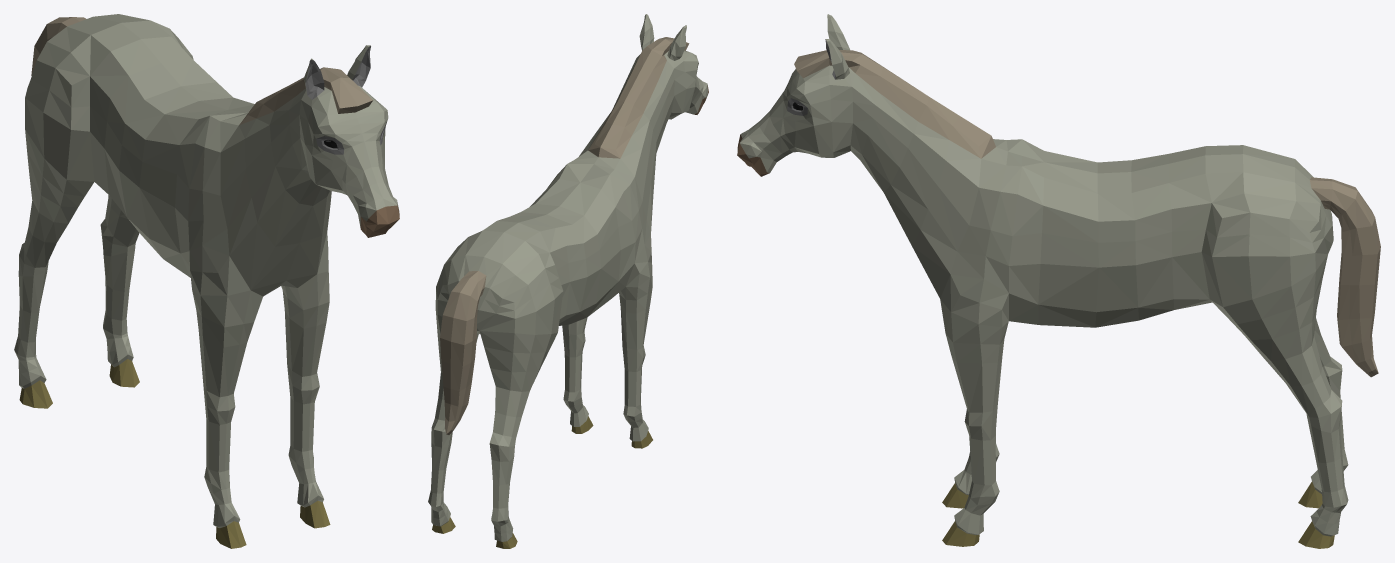
File: horse-white.glb
3 renders of one model, left to right at view 1: azimuth 30°, elevation 25°; view 2: azimuth 150°, elevation 25°; view 3: azimuth 270°, elevation 25°, orthographic. The views are drawn at different scales.
Visible parts, largest first — view 1: horse-white; view 2: horse-white; view 3: horse-white.
Part boxes in pixels (x1,y1,x2,y2): horse-white: (14, 14, 399, 548); horse-white: (428, 14, 708, 548); horse-white: (737, 14, 1380, 548).
Bounding box in the file's own units: 0.248 × 0.8493 × 1.
